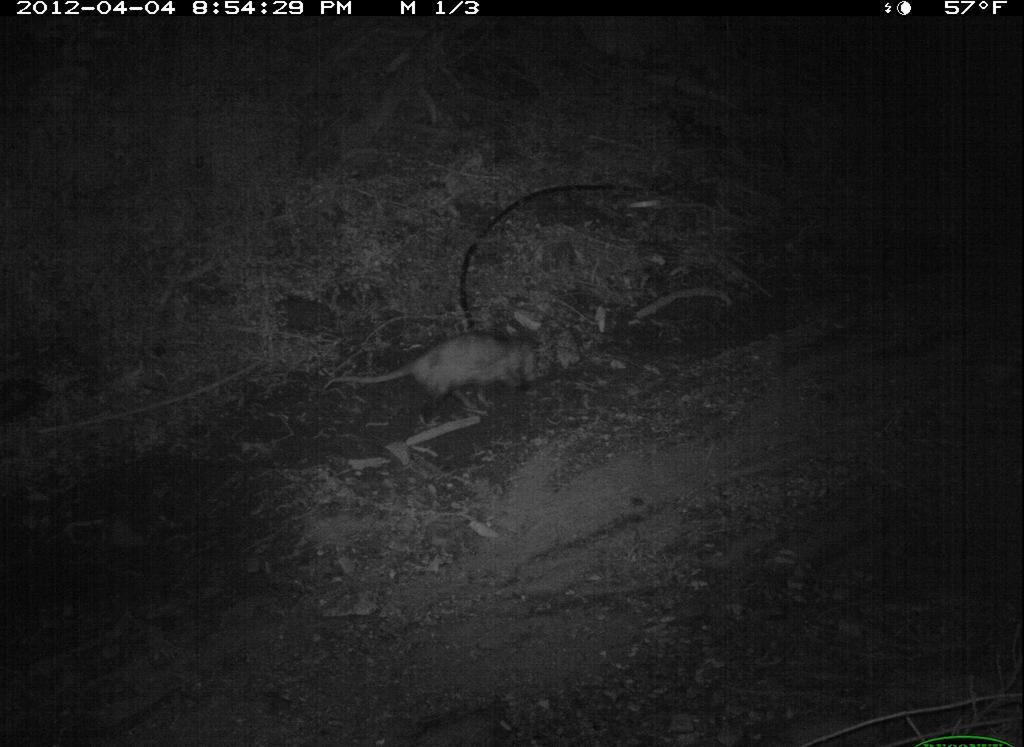opossum: (319, 327, 568, 428)
